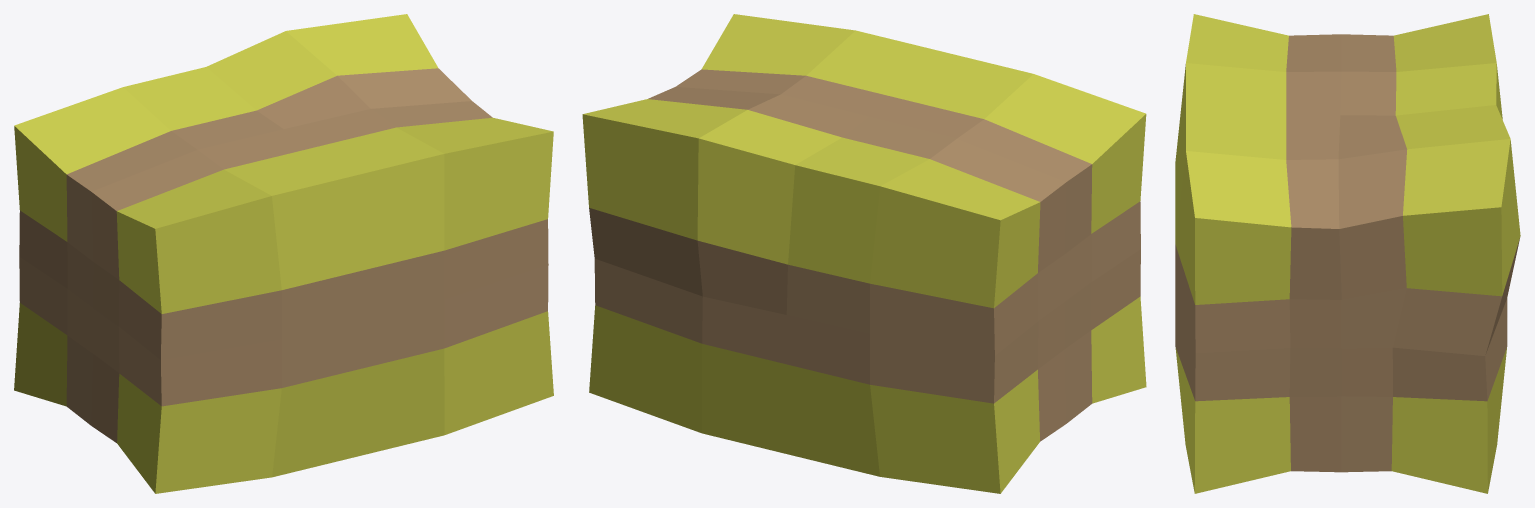
The model's file is botte1.fbx.
The picture shows the model from 3 angles, left to right: view 1: azimuth 30°, elevation 25°; view 2: azimuth 150°, elevation 25°; view 3: azimuth 270°, elevation 25°; orthographic projection. The views are drawn at different scales.
Parts seen in each view (by area): view 1: Cube; view 2: Cube; view 3: Cube.
Boxes of the visible parts, x1,y1,x2,y2 form: Cube: (14,14,553,493); Cube: (582,14,1146,493); Cube: (1175,14,1520,493).
Bounding box in the file's own units: 628 × 438 × 450.
